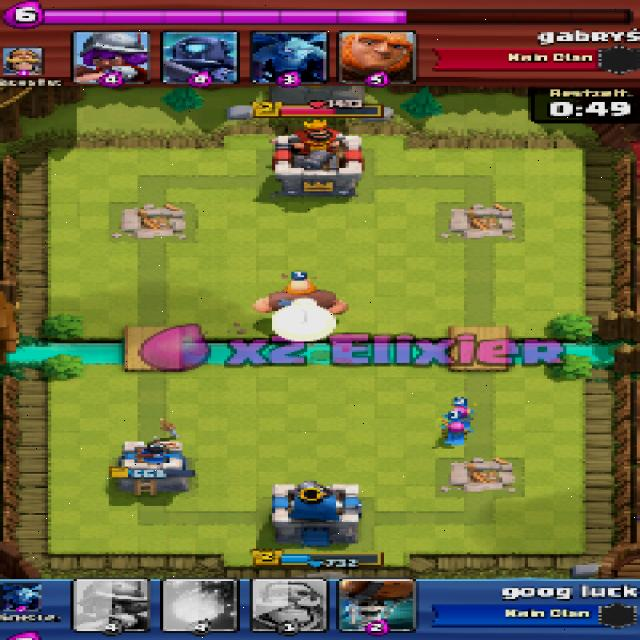Player-Archer: (437, 420, 474, 446), (445, 404, 474, 430)
Player-Giant: (249, 281, 351, 326)
